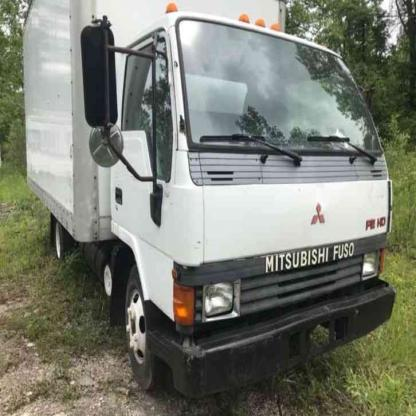truck: (23, 1, 396, 395)
